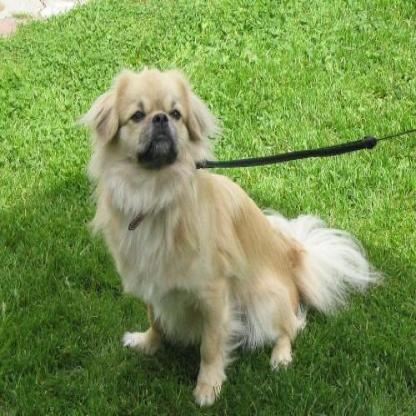Brabancon_griffon: (78, 66, 378, 408)
